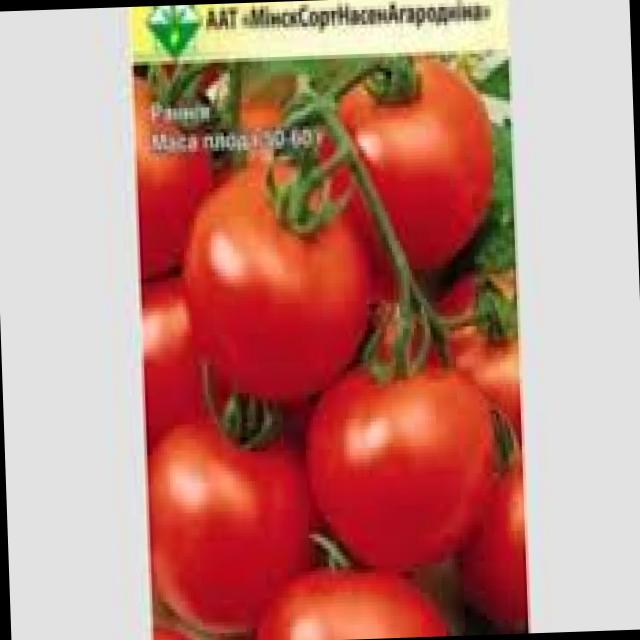Tomato: (129, 384, 329, 636), (181, 146, 379, 396), (299, 340, 502, 571), (307, 54, 507, 276), (446, 400, 558, 636), (117, 85, 228, 286), (115, 270, 236, 444), (234, 551, 451, 640), (422, 256, 532, 404), (141, 610, 232, 640)
